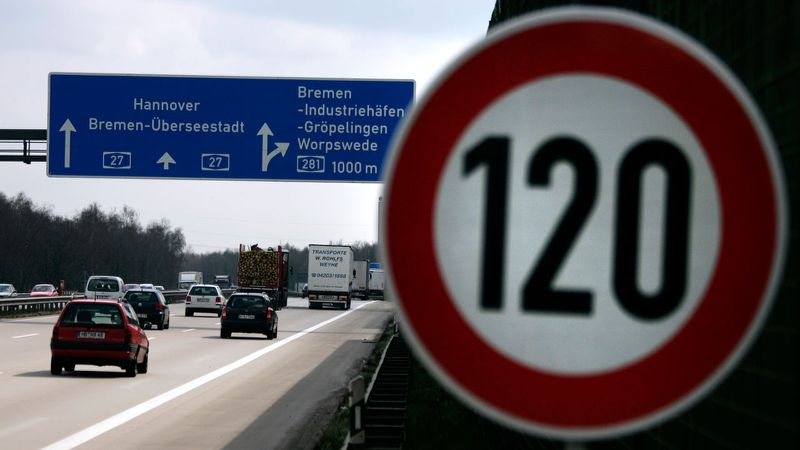Speed_limit_120km: (376, 10, 789, 443)
car: (43, 299, 151, 381), (215, 291, 282, 341)
